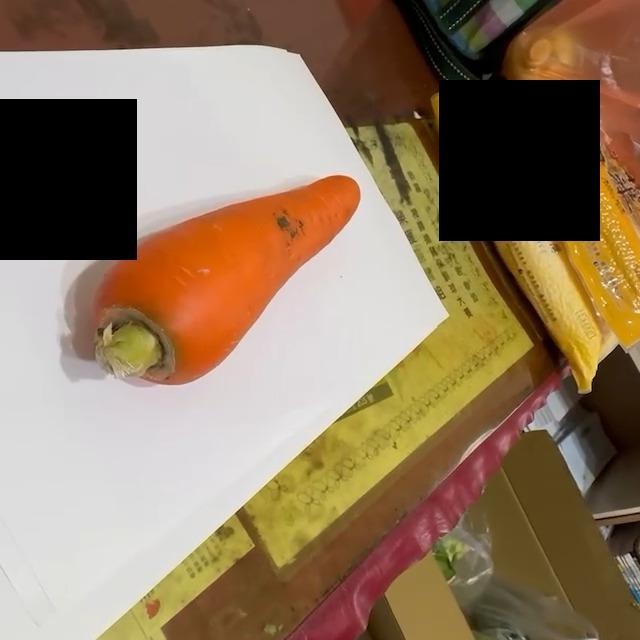carrot: (90, 175, 364, 385)
